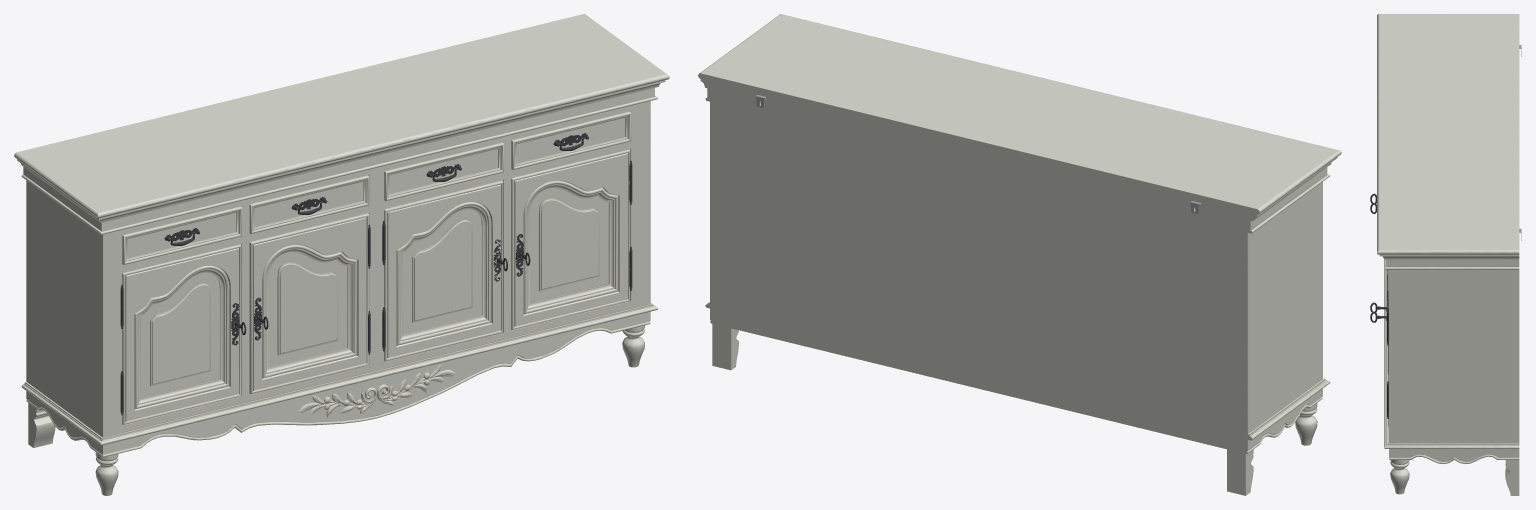
File: example45.gltf
3 views of the same model, side by side, from view 1: azimuth 30°, elevation 25°; view 2: azimuth 150°, elevation 25°; view 3: azimuth 270°, elevation 25° (orthographic). The views are drawn at different scales.
Bounding box in the file's own units: 190 × 93.6 × 51.19.
Materials: 3 (2 with a texture image).
